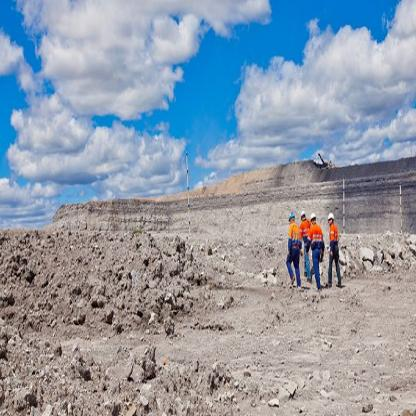person: (306, 210, 328, 298), (285, 206, 302, 297), (325, 203, 343, 286)
